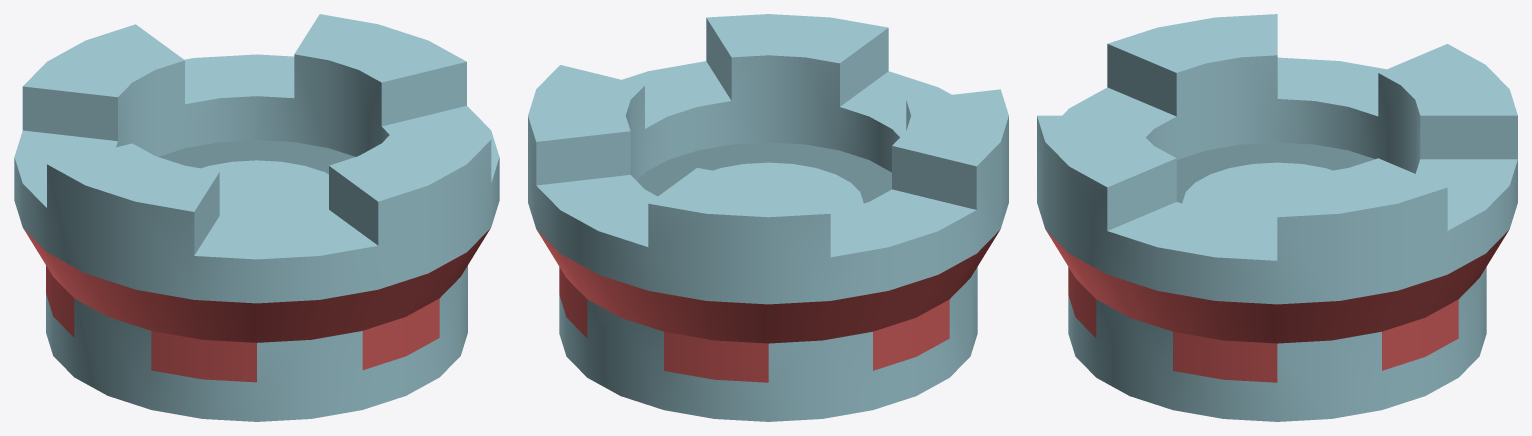
File: towerRound_topC.fbx
3 renders of one model, left to right at view 1: azimuth 30°, elevation 25°; view 2: azimuth 150°, elevation 25°; view 3: azimuth 270°, elevation 25°, orthographic.
Parts seen in each view (by area): view 1: towerRound_topC; view 2: towerRound_topC; view 3: towerRound_topC.
Boxes of the visible parts, x1=… form: towerRound_topC: x1=14, y1=14, x2=499, y2=421; towerRound_topC: x1=528, y1=14, x2=1008, y2=421; towerRound_topC: x1=1037, y1=14, x2=1517, y2=421.
Bounding box in the file's own units: 10 × 5 × 10.
